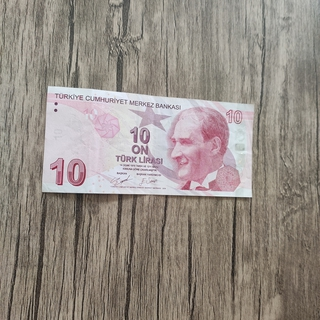10TLFront: (40, 84, 255, 198)
